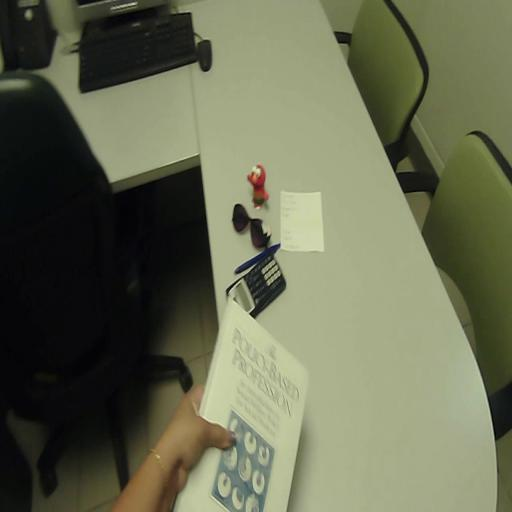pen: (234, 244, 280, 273)
